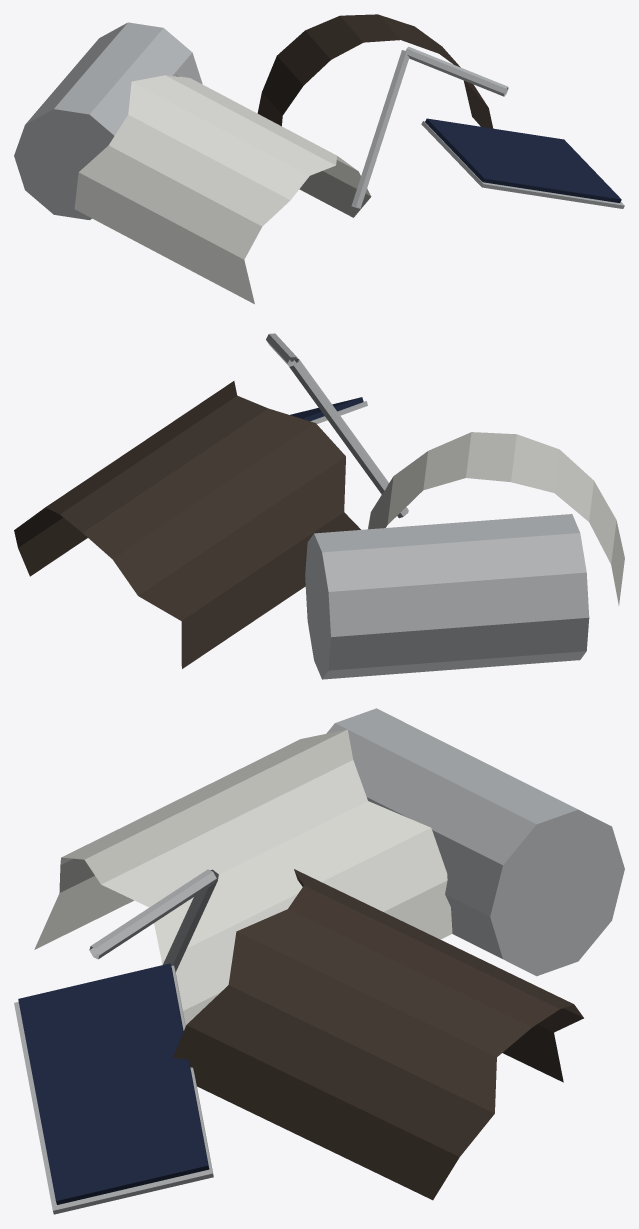
File: landmark_wreck.glb
3 views of the same model, one above another, from view 1: azimuth 30°, elevation 25°; view 2: azimuth 150°, elevation 25°; view 3: azimuth 270°, elevation 25° (orthographic). The views are drawn at different scales.
Visible parts, largest first — view 1: shell0, landmark_wreck_metal, panel, shell1; view 2: shell1, landmark_wreck_metal, shell0, panel; view 3: shell1, shell0, landmark_wreck_metal, panel.
Part boxes in pixels (box(x1,y1,x2,y2)): shell0: box(74, 75, 371, 304); landmark_wreck_metal: box(14, 22, 624, 220); panel: box(425, 118, 621, 203); shell1: box(257, 14, 494, 132); shell1: box(14, 381, 360, 668); landmark_wreck_metal: box(266, 333, 589, 679); shell0: box(368, 432, 624, 605); panel: box(290, 397, 363, 421); shell1: box(173, 869, 583, 1200); shell0: box(34, 729, 452, 1025); landmark_wreck_metal: box(14, 708, 624, 1214); panel: box(18, 963, 209, 1204).
Bounding box in the file's own units: 4.08 × 1.31 × 3.12.
